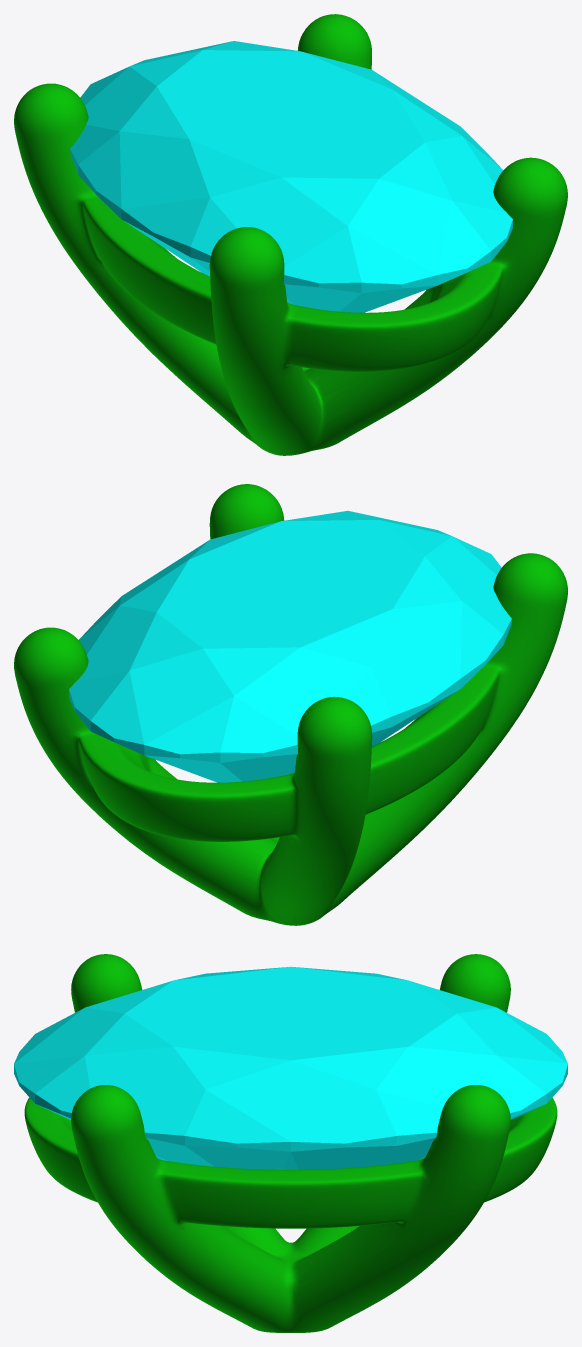
3 renders of one model, top to bottom at view 1: azimuth 30°, elevation 25°; view 2: azimuth 150°, elevation 25°; view 3: azimuth 270°, elevation 25°, orthographic. The views are drawn at different scales.
Visible parts, largest first — view 1: Diamond_Oval, Metal01; view 2: Diamond_Oval, Metal01; view 3: Diamond_Oval, Metal01.
Boxes of the visible parts, x1,y1,x2,y2 form: Diamond_Oval: (70, 41, 512, 312); Metal01: (14, 14, 567, 455); Diamond_Oval: (69, 510, 511, 782); Metal01: (14, 484, 567, 925); Diamond_Oval: (14, 966, 567, 1169); Metal01: (24, 954, 557, 1332).
Bounding box in the file's own units: 6.37 × 5.64 × 9.3.
